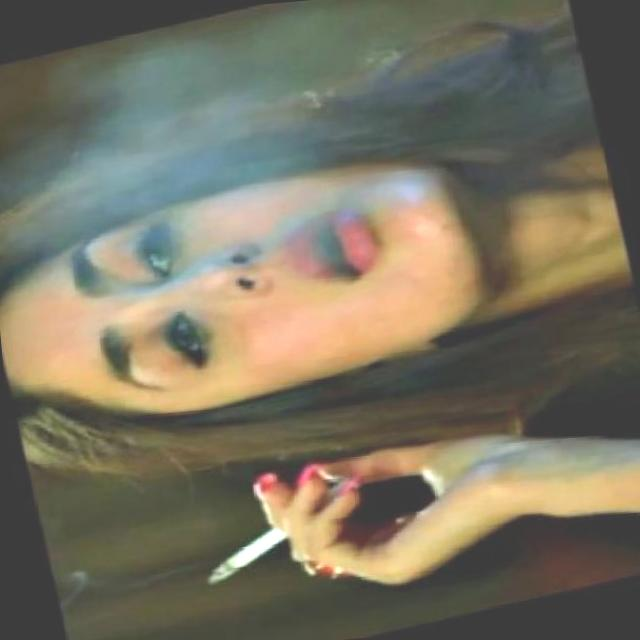cigarette: (190, 472, 380, 588)
